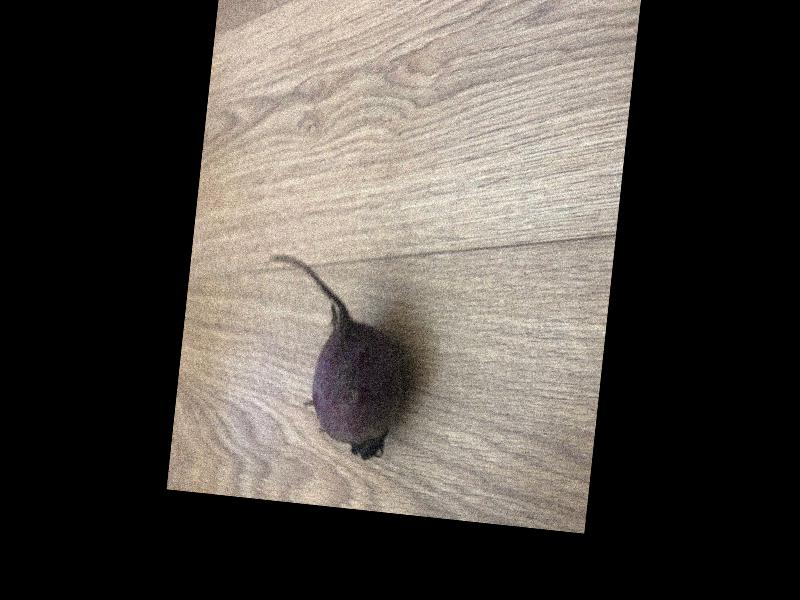Beet: (250, 250, 416, 459)
